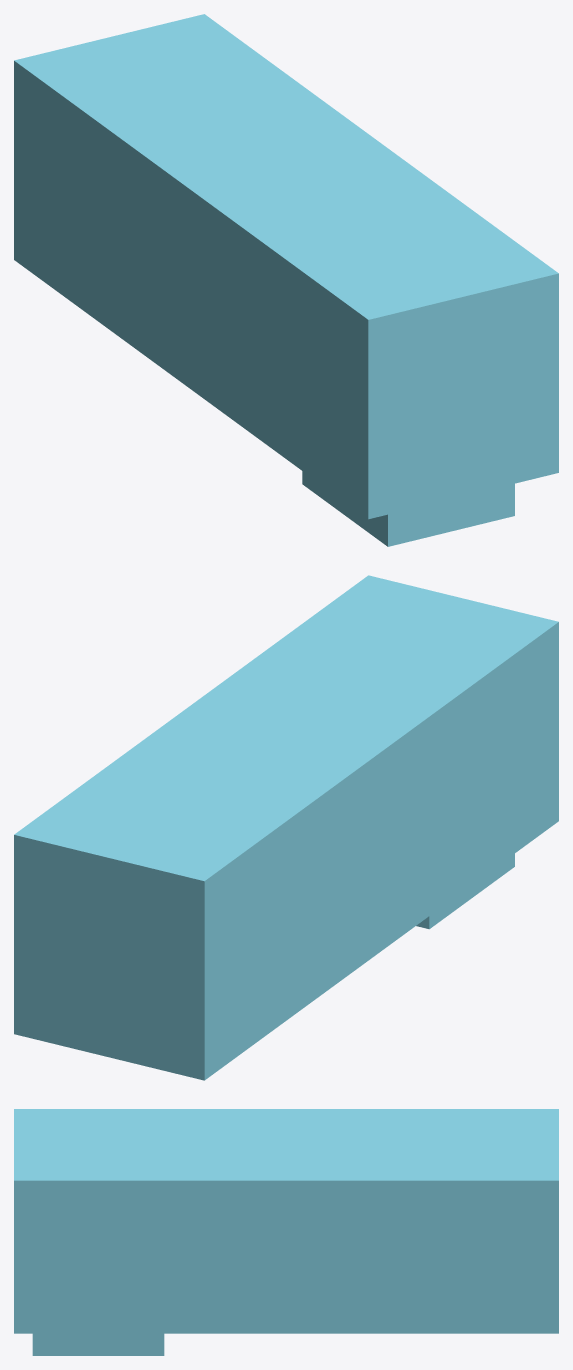
The model's file is DebugHeldItem.gltf.
3 renders of one model, top to bottom at view 1: azimuth 30°, elevation 25°; view 2: azimuth 150°, elevation 25°; view 3: azimuth 270°, elevation 25°, orthographic. The views are drawn at different scales.
Visible parts, largest first — view 1: DebugHeldItemRoot; view 2: DebugHeldItemRoot; view 3: DebugHeldItemRoot.
Part boxes in pixels (<box>): DebugHeldItemRoot: <box>14,14,558,546</box>; DebugHeldItemRoot: <box>14,575,558,1080</box>; DebugHeldItemRoot: <box>14,1109,558,1355</box>.
Bounding box in the file's own units: 0.18 × 0.22 × 0.58.
